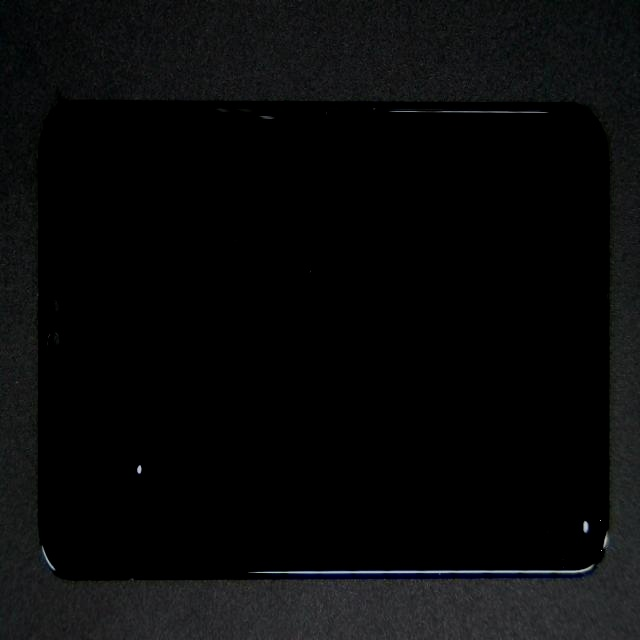stain: (284, 244, 640, 640), (53, 212, 180, 640)
